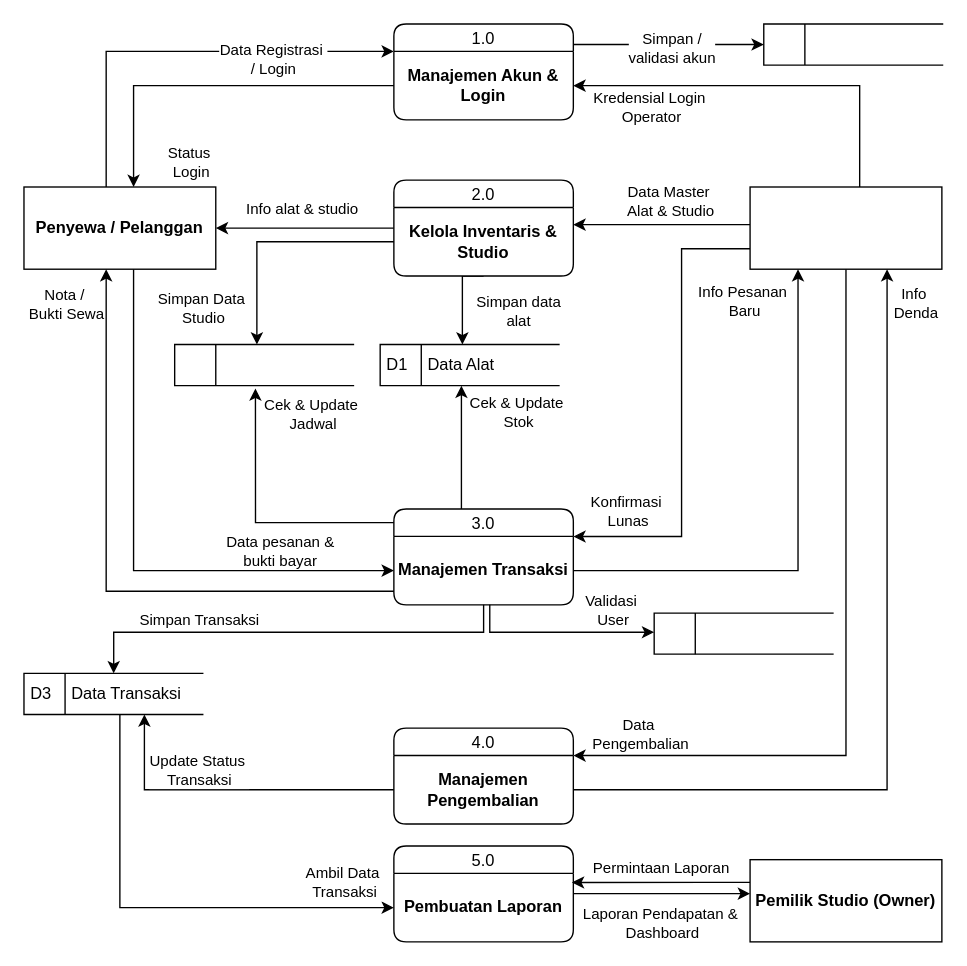
Some shapes in this 967 by 966 pixel diagram are drawn without their labels. The centre of each missing label's shape, as x and y in pixels:
"D2 Data Studio" goes at (x=263, y=364).
"D4 *Data Pengguna" goes at (x=743, y=633).
"D4 Data Pengguna" goes at (x=852, y=44).
"Staf / Operator" goes at (x=845, y=227).
